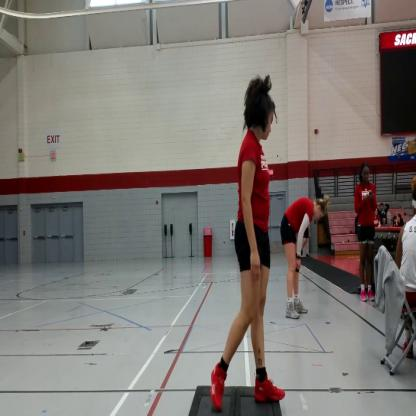lateral_flexion_left: (209, 70, 287, 416)
stance_width_broad: (209, 123, 286, 416)
